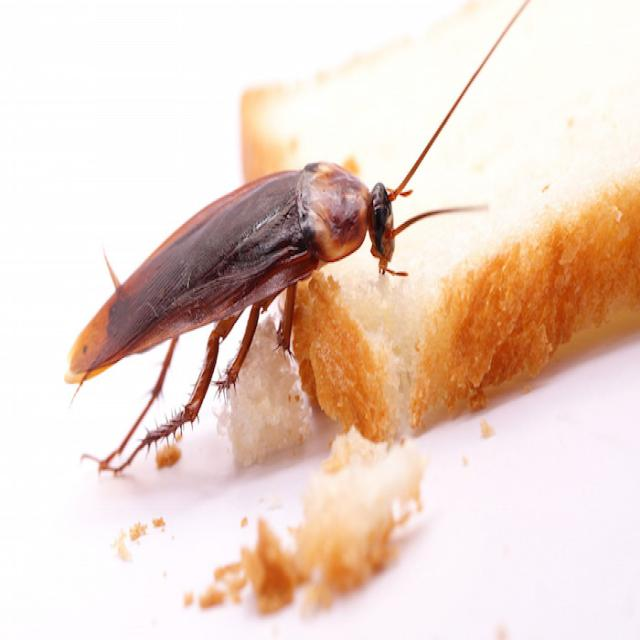Cockroach: (58, 128, 430, 480)
